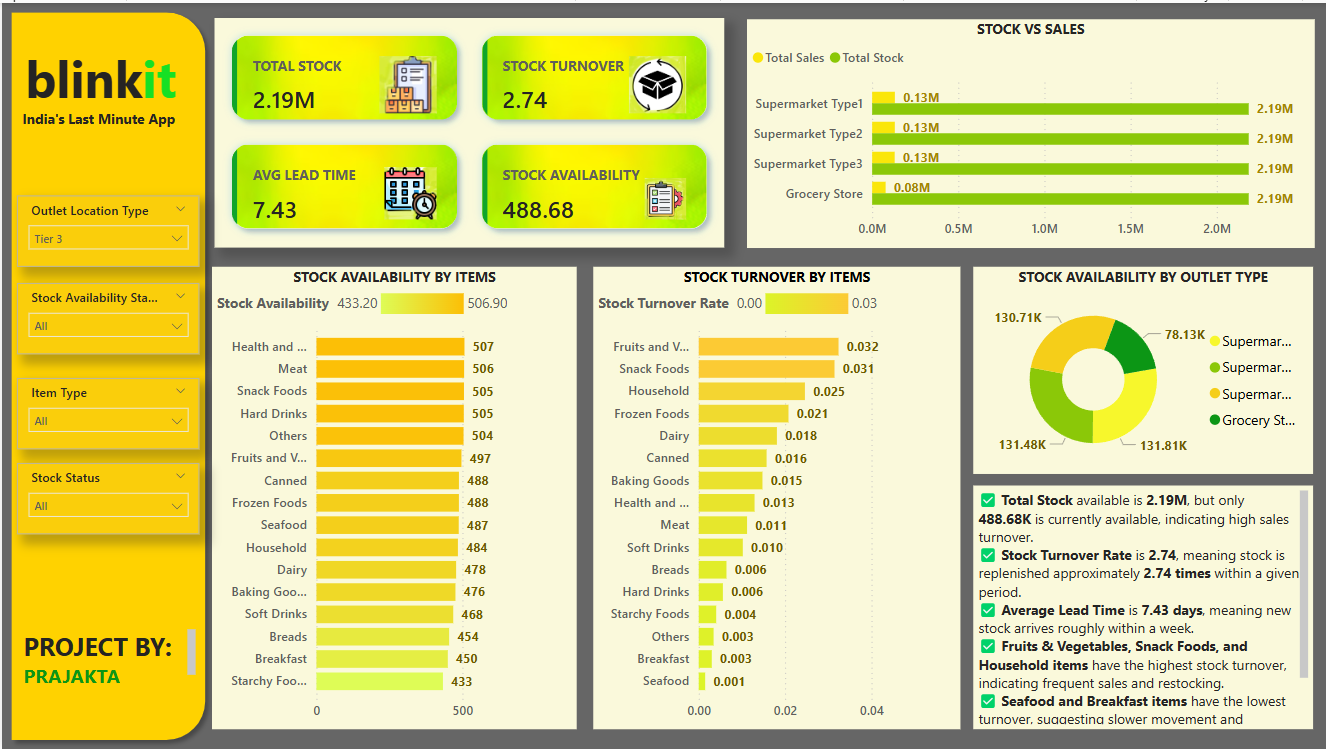

The page's visual inventory and layout, read from the dashboard file:
{"tool":"powerbi","page":{"name":"Blinkit Inventory Overview","canvas":[1280,720],"ordinal":3},"visuals":[{"type":"shape","box":[0,0,205.1,720.2],"z":0},{"type":"textbox","box":[448.8,634.6,19.3,4.8],"z":1000},{"type":"textbox","box":[0,35,190.6,84.5],"z":2000},{"type":"textbox","box":[14.5,97.7,177.3,43.4],"z":3000},{"type":"cardVisual","fields":{"Data":["Cleaned Grocery Data.Total Stock","Cleaned Inventory Data.Stock Turnover","Cleaned Inventory Data.Avg Lead Time","Cleaned Inventory Data.Stock Availability"]},"box":[205.1,14.5,492.2,222],"z":4000},{"type":"donutChart","title":"STOCK AVAILABILITY BY OUTLET TYPE","fields":{"Y":["Cleaned Grocery Data.Total Sales"],"Category":["Cleaned Grocery Data.Outlet Type"]},"box":[937.4,254.6,328.2,200.3],"z":5000},{"type":"shape","box":[745.6,194.2,506.7,20.5],"z":6000},{"type":"slicer","fields":{"Values":["Cleaned Grocery Data.Outlet Location Type"]},"box":[14.5,185.8,176.1,68.8],"z":7000},{"type":"slicer","fields":{"Values":["Cleaned Grocery Data.Item Type"]},"box":[14.5,361.9,176.1,68.8],"z":8000},{"type":"textbox","box":[15.7,599.6,176.1,70],"z":9000},{"type":"clusteredBarChart","title":"STOCK VS SALES","fields":{"Y":["Cleaned Grocery Data.Total Sales","Cleaned Grocery Data.Total Stock"],"Category":["Cleaned Grocery Data.Outlet Type"]},"box":[719,15.7,547.7,220.8],"z":10000},{"type":"clusteredBarChart","title":"STOCK TURNOVER BY ITEMS","fields":{"Y":["Cleaned Grocery Data.Stock Turnover Rate"],"Category":["Cleaned Grocery Data.Item Type"]},"box":[570.6,254.6,354.7,446.4],"z":11000},{"type":"textbox","box":[937.4,465.7,328.2,235.3],"z":12000},{"type":"slicer","fields":{"Values":["Cleaned Inventory Data.Stock Availability Status"]},"box":[14.5,270.2,176.1,68.8],"z":13000},{"type":"barChart","title":"STOCK AVAILABILITY BY ITEMS","fields":{"Y":["Cleaned Inventory Data.Stock Availability"],"Category":["Cleaned Inventory Data.Item Type"]},"box":[202.7,254.6,352.3,446.4],"z":14000},{"type":"slicer","fields":{"Values":["Cleaned Inventory Data.Stock Status"]},"box":[14.5,444,176.1,68.8],"z":15000}]}

Visuals, with their boxes in screenshot pixels (x1, y1, x2, y2), scaled from the page's 1280x720 canvas onto the 1326x749 screenshot:
shape: crop(0, 0, 212, 748)
textbox: crop(465, 660, 485, 665)
textbox: crop(0, 36, 197, 124)
textbox: crop(15, 102, 199, 147)
cardVisual - Cleaned Grocery Data.Total Stock x Cleaned Inventory Data.Stock Turnover: crop(212, 15, 722, 246)
"STOCK AVAILABILITY BY OUTLET TYPE" donutChart: crop(971, 265, 1311, 473)
shape: crop(772, 202, 1297, 223)
slicer - Cleaned Grocery Data.Outlet Location Type: crop(15, 193, 197, 265)
slicer - Cleaned Grocery Data.Item Type: crop(15, 376, 197, 448)
textbox: crop(16, 624, 199, 697)
"STOCK VS SALES" clusteredBarChart: crop(745, 16, 1312, 246)
"STOCK TURNOVER BY ITEMS" clusteredBarChart: crop(591, 265, 959, 729)
textbox: crop(971, 484, 1311, 729)
slicer - Cleaned Inventory Data.Stock Availability Status: crop(15, 281, 197, 353)
"STOCK AVAILABILITY BY ITEMS" barChart: crop(210, 265, 575, 729)
slicer - Cleaned Inventory Data.Stock Status: crop(15, 462, 197, 533)
